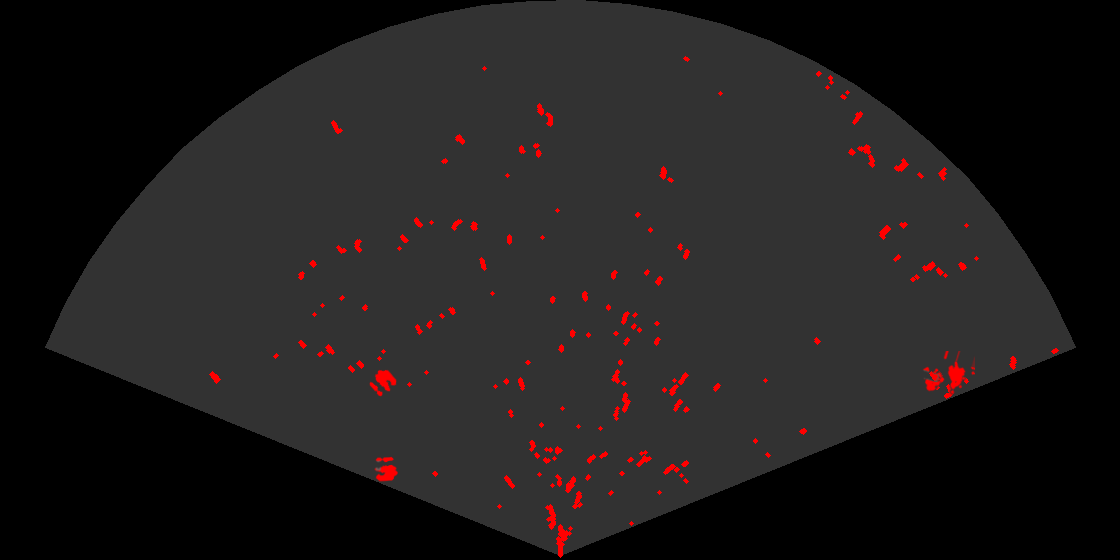ball: (368, 368, 398, 398), (373, 455, 399, 483)
cage: (921, 351, 975, 396)
